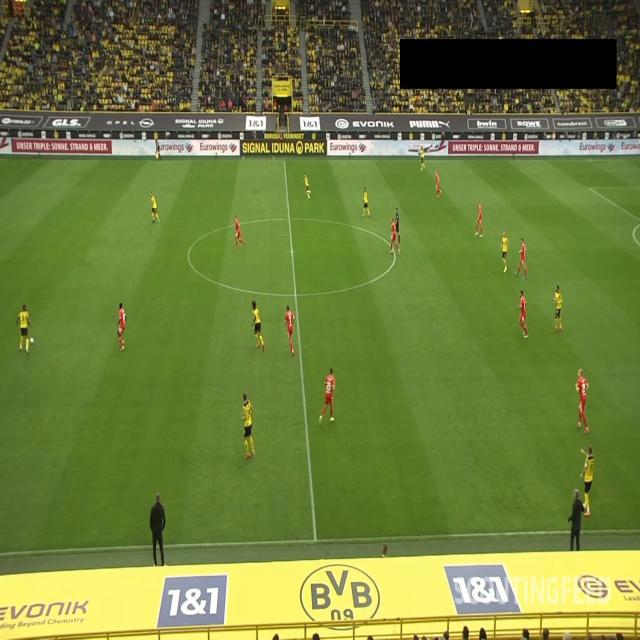ball: (29, 336, 35, 346)
